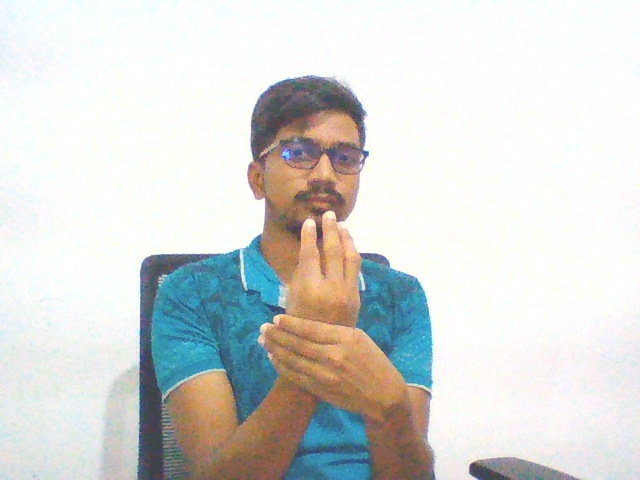tree: (255, 207, 412, 418)
